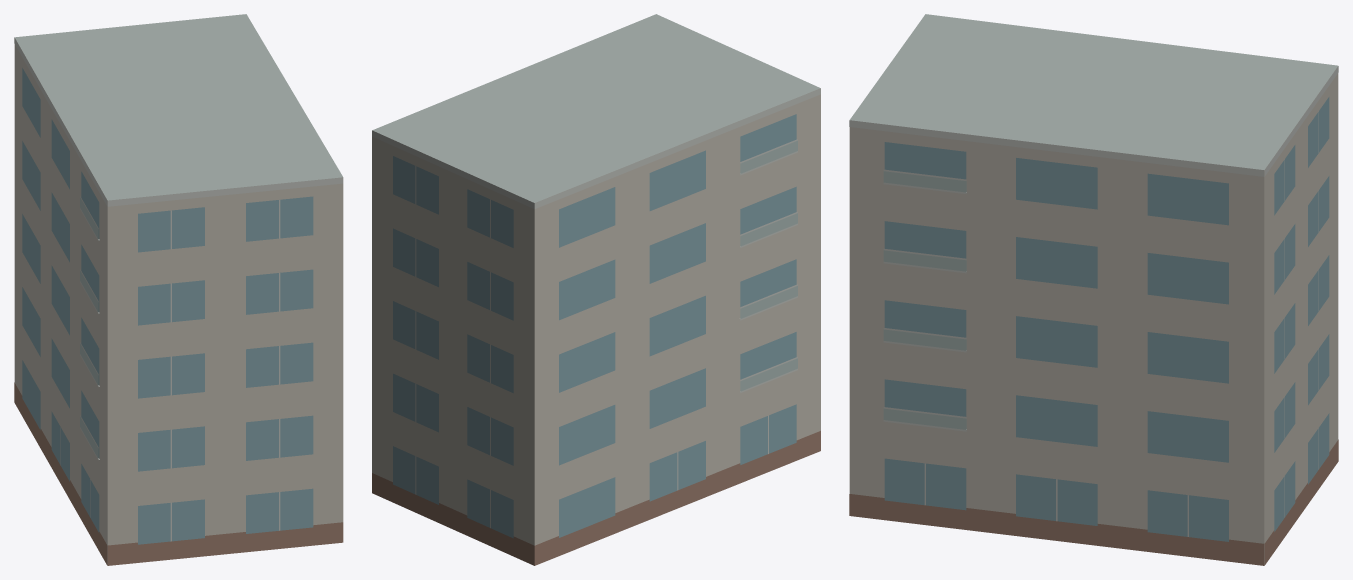
The model's file is survey-upis-32877567.glb.
3 renders of one model, left to right at view 1: azimuth 30°, elevation 25°; view 2: azimuth 150°, elevation 25°; view 3: azimuth 270°, elevation 25°, orthographic. The views are drawn at different scales.
Visible parts, largest first — view 1: survey-upis-32877567.tmp; view 2: survey-upis-32877567.tmp; view 3: survey-upis-32877567.tmp.
Boxes of the visible parts, box(x1,y1,x2,y2) form: survey-upis-32877567.tmp: box(14, 14, 343, 565); survey-upis-32877567.tmp: box(372, 14, 820, 565); survey-upis-32877567.tmp: box(849, 14, 1338, 565).
Size of the model in its own units: 12.11 by 14.3 by 16.03.
